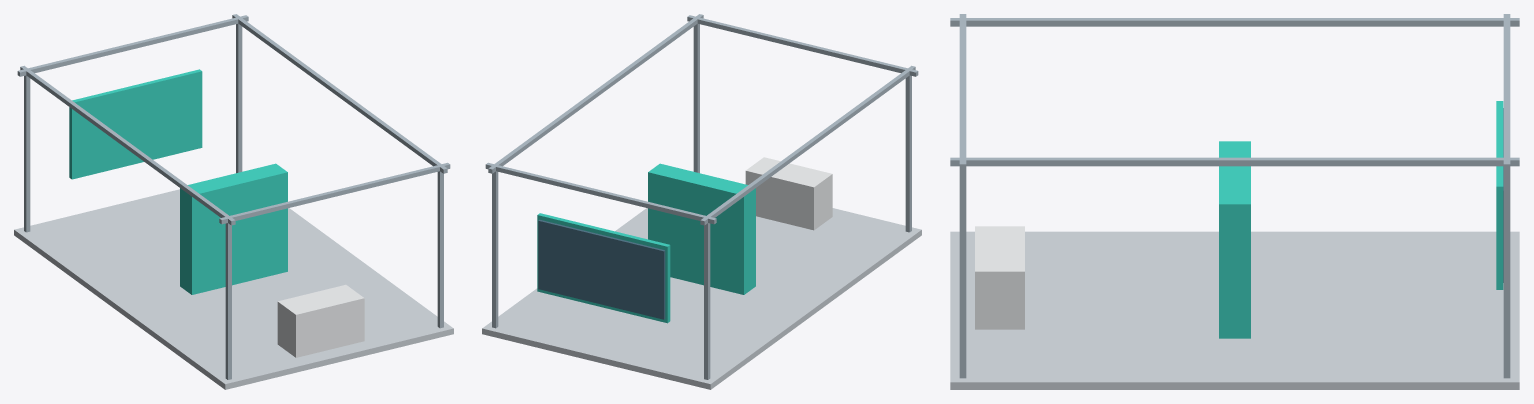
3 renders of one model, left to right at view 1: azimuth 30°, elevation 25°; view 2: azimuth 150°, elevation 25°; view 3: azimuth 270°, elevation 25°, orthographic. The views are drawn at different scales.
Parts seen in each view (by area): view 1: Exhibition Booth Concept; view 2: Exhibition Booth Concept; view 3: Exhibition Booth Concept.
Part boxes in pixels (x1=…): Exhibition Booth Concept: x1=14, y1=14, x2=453, y2=389; Exhibition Booth Concept: x1=482, y1=14, x2=921, y2=389; Exhibition Booth Concept: x1=950, y1=14, x2=1519, y2=389.
Bounding box in the file's own units: 5 × 3.49 × 8.
